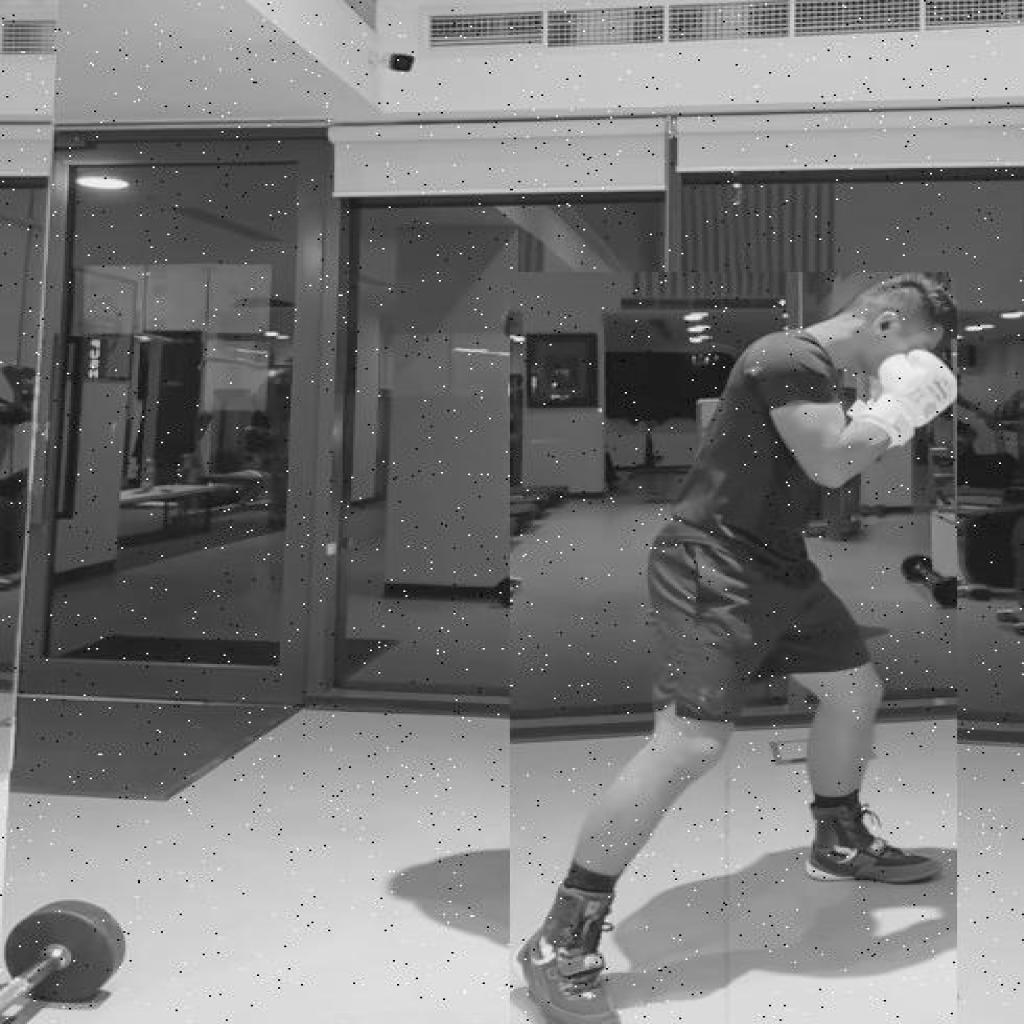no punch: (510, 272, 957, 1023)
